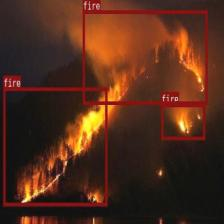fire: (3, 87, 107, 205), (83, 10, 207, 104), (161, 103, 205, 139)
